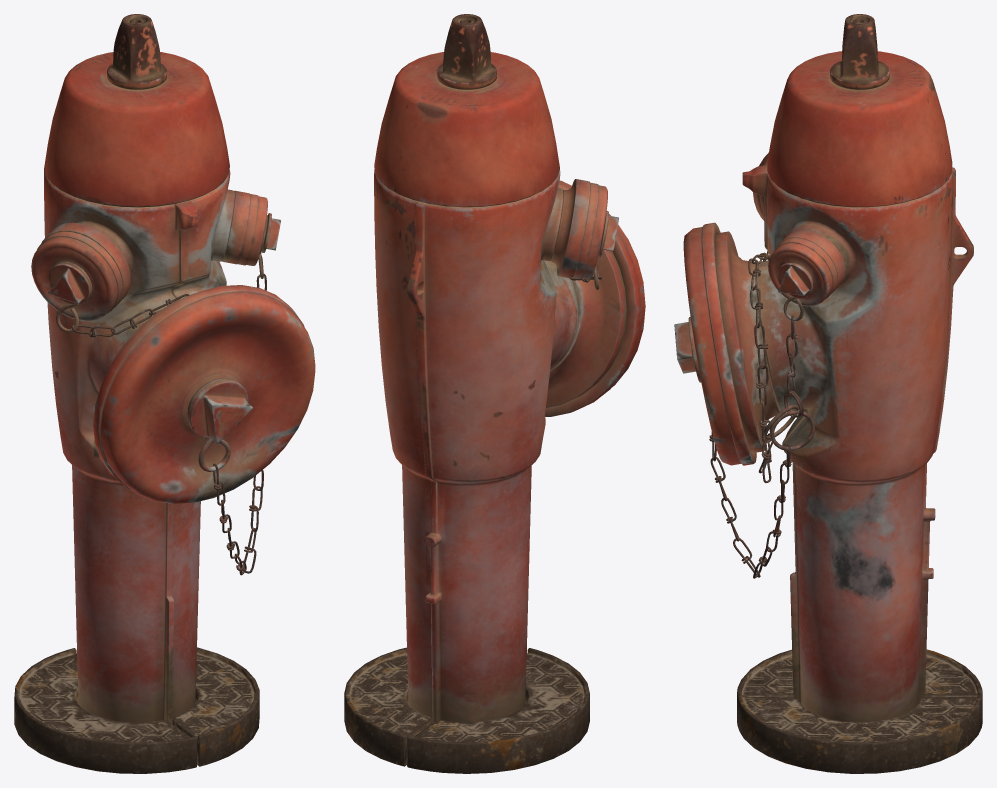
File: fire_hydrant.glb
The picture shows the model from 3 angles, left to right: view 1: azimuth 30°, elevation 25°; view 2: azimuth 150°, elevation 25°; view 3: azimuth 270°, elevation 25°; orthographic projection.
Parts seen in each view (by area): view 1: fire_hydrant_aged, fire_hydrant_cap_01_aged, fire_hydrant_cap_03_aged, fire_hydrant_chain_aged, fire_hydrant_cap_02_aged; view 2: fire_hydrant_aged, fire_hydrant_cap_01_aged, fire_hydrant_cap_03_aged; view 3: fire_hydrant_aged, fire_hydrant_cap_01_aged, fire_hydrant_chain_aged, fire_hydrant_cap_02_aged.
Part boxes in pixels (<box>): fire_hydrant_aged: <box>14,14,259,773</box>; fire_hydrant_cap_01_aged: <box>93,285,315,503</box>; fire_hydrant_cap_03_aged: <box>31,231,122,321</box>; fire_hydrant_chain_aged: <box>56,215,267,575</box>; fire_hydrant_cap_02_aged: <box>237,194,280,265</box>; fire_hydrant_aged: <box>344,14,626,773</box>; fire_hydrant_cap_01_aged: <box>545,180,645,416</box>; fire_hydrant_cap_03_aged: <box>573,182,618,279</box>; fire_hydrant_aged: <box>715,14,982,773</box>; fire_hydrant_cap_01_aged: <box>674,222,756,465</box>; fire_hydrant_chain_aged: <box>709,250,814,578</box>; fire_hydrant_cap_02_aged: <box>768,238,837,306</box>.
Bounding box in the file's own units: 0.2746 × 0.7995 × 0.3177.
1 material, 1 textured.
